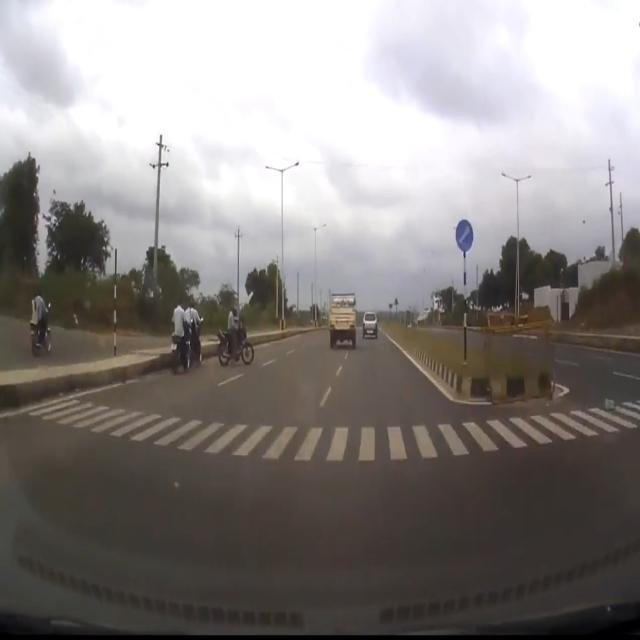bien_cam: (455, 217, 474, 253)
